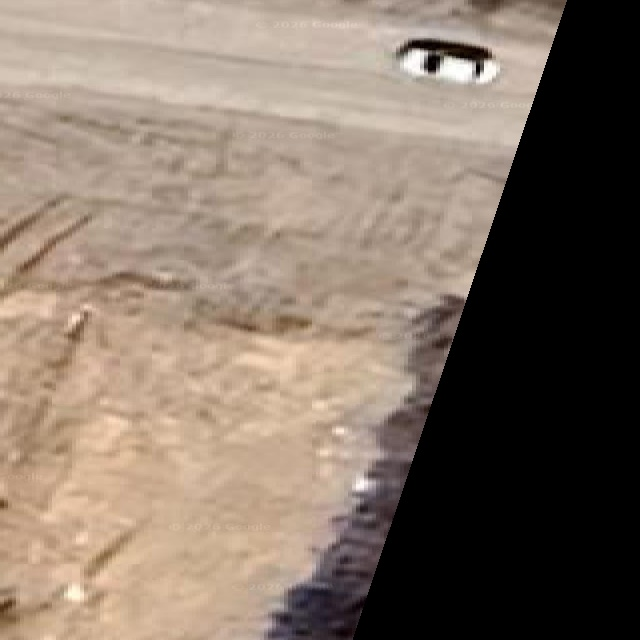car: (395, 39, 499, 83)
